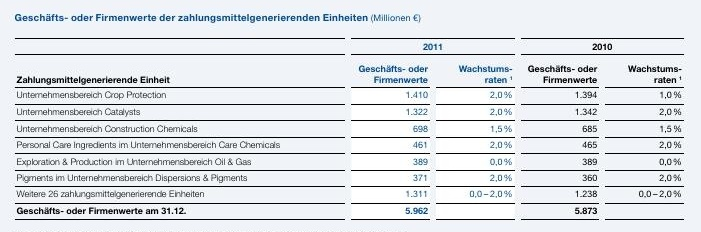table: (0, 0, 701, 232)
